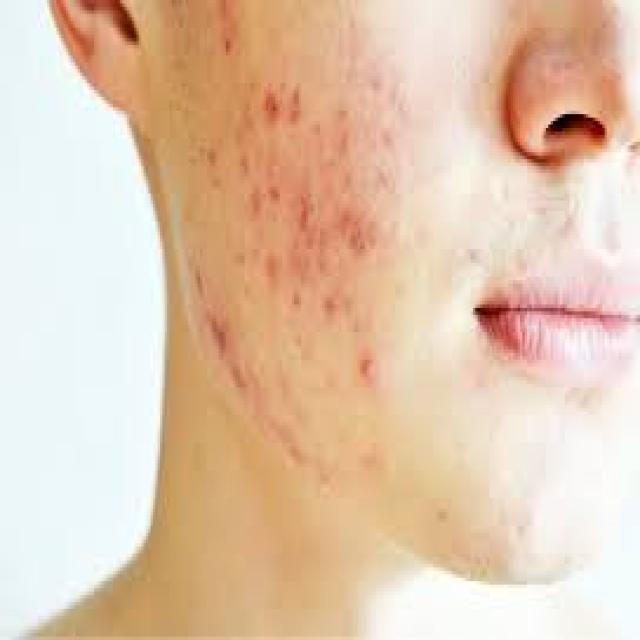Acne: (340, 210, 379, 256), (205, 309, 236, 363), (218, 0, 242, 58), (297, 194, 313, 233), (264, 91, 281, 122), (358, 354, 376, 382), (266, 184, 282, 207), (324, 294, 338, 314)
